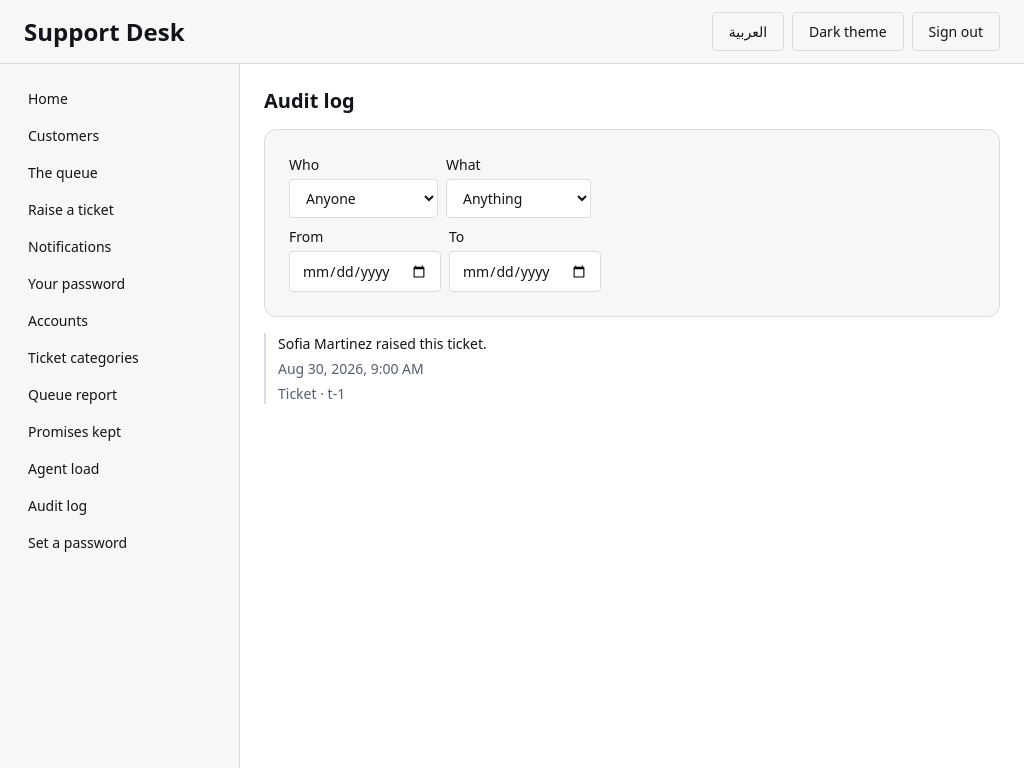
Test: the id box appears only once a thing is chosen
Check: the field labelled "Which one" is not shown
Select "Ticket" in the dropdown labelled "What". click: (518, 198)
box: [446,179,591,218]
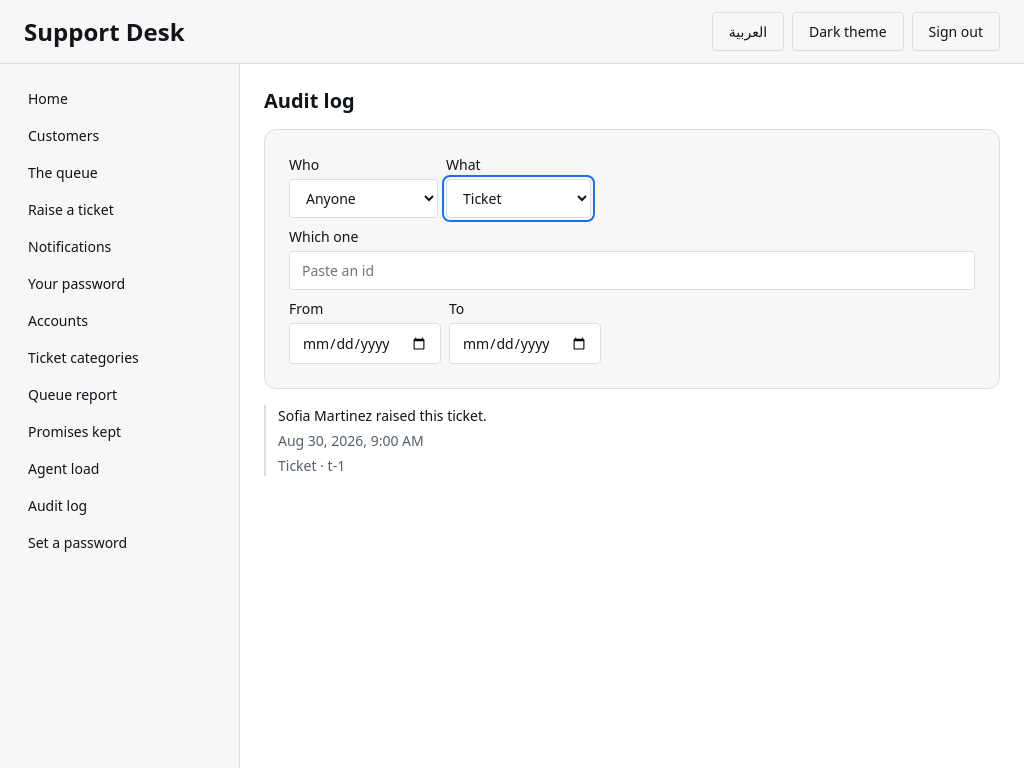
Check: the field labelled "Which one" is shown, box [289,251,975,290]
